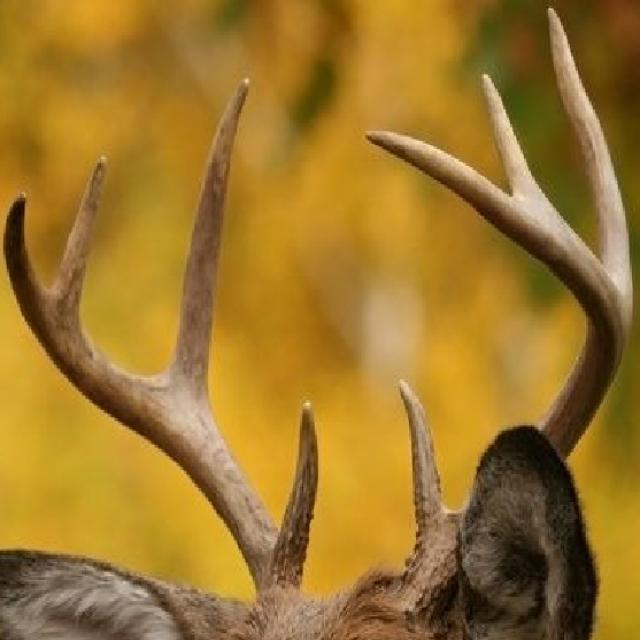R-F: (1, 190, 303, 601)
R-G1: (274, 399, 319, 586), (397, 377, 443, 546)
R-G2: (545, 4, 634, 351), (167, 75, 251, 390)
R-G3: (50, 153, 110, 318), (480, 73, 549, 206)
